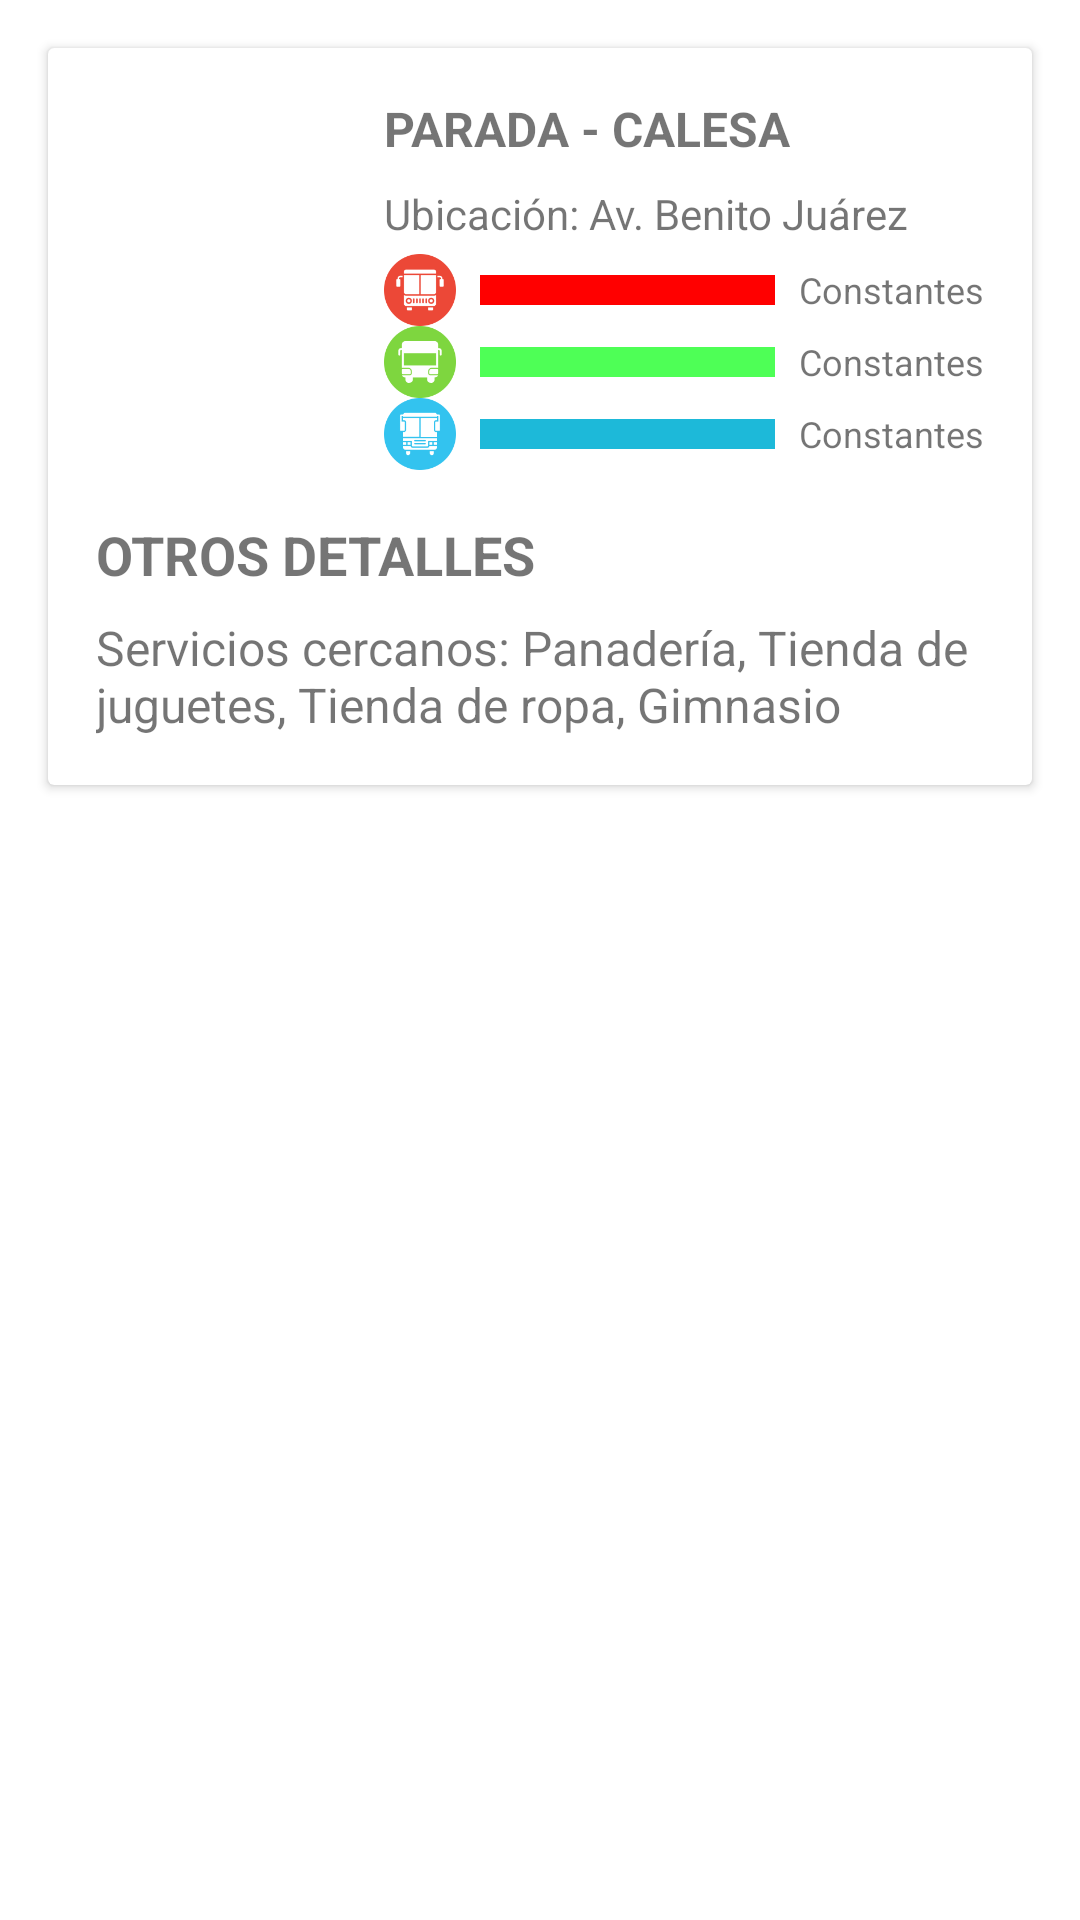

Icon bounding boxes for this 1080px x 1920px phone screenshot, format (x1, y1, x2, y2):
azules: (384, 398, 456, 470)
rojas: (384, 254, 456, 326)
verdes: (384, 326, 456, 398)
